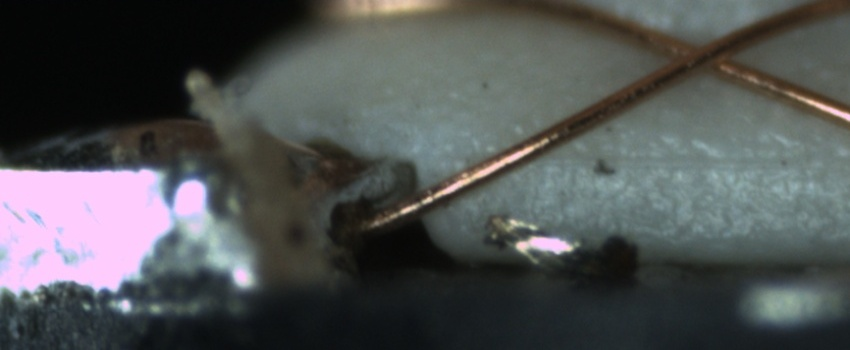CL: (654, 25, 756, 84)
DL: (465, 128, 850, 188)
